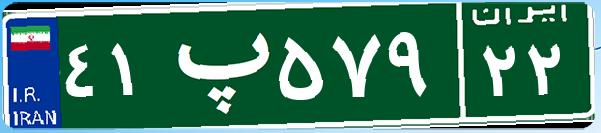1: (110, 28, 158, 105)
2: (475, 38, 525, 113), (525, 38, 570, 115)
4: (57, 26, 110, 107)
5: (273, 28, 330, 110)
7: (330, 28, 385, 110)
9: (385, 28, 445, 110)
پ: (158, 15, 273, 115)
